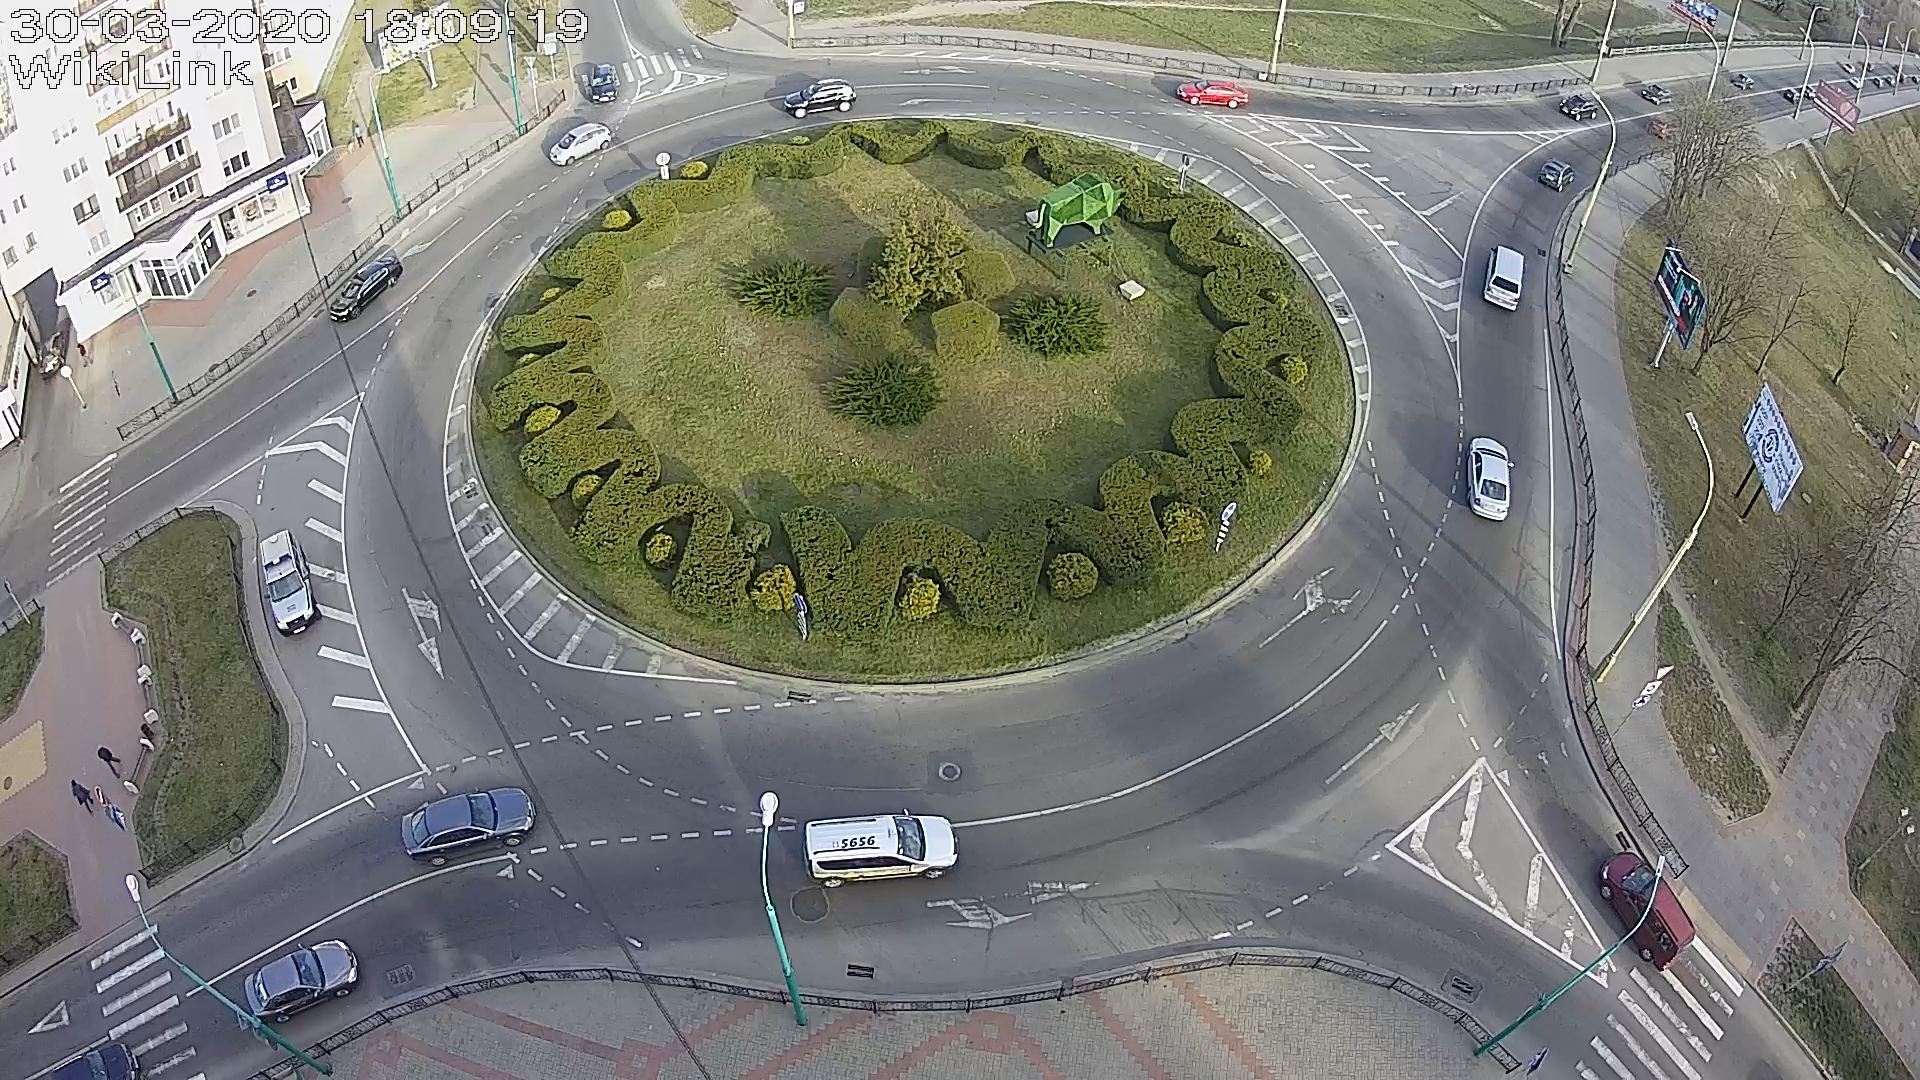car: (802, 808, 959, 887), (1598, 852, 1696, 971), (401, 787, 535, 866), (245, 938, 359, 1025), (260, 529, 322, 637), (328, 256, 401, 323), (1465, 436, 1515, 522), (782, 79, 857, 119), (1482, 244, 1524, 313), (549, 123, 611, 166), (1176, 80, 1249, 109), (1538, 158, 1575, 193), (591, 65, 618, 105), (1559, 94, 1598, 121), (1640, 84, 1673, 105)
